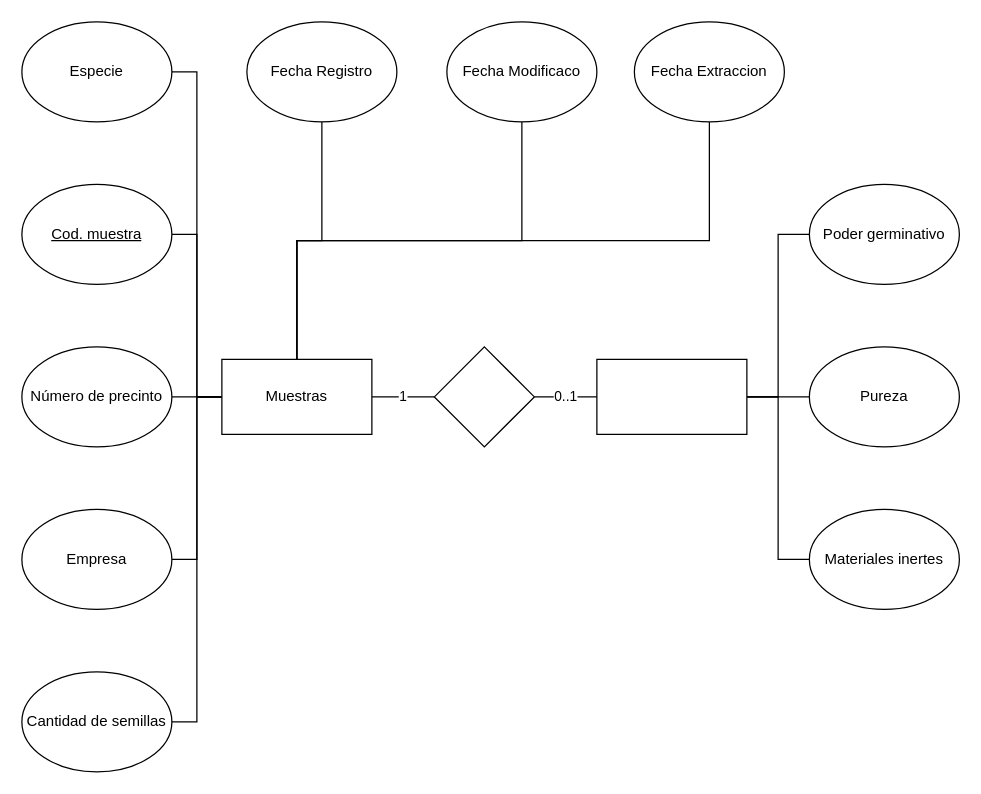
Some shapes in this 981 by 794 pixel diagram are drawn without their labels. Each missing label, with the centre of its shape:
Resultados: (671,396)
Tiene: (483,396)
